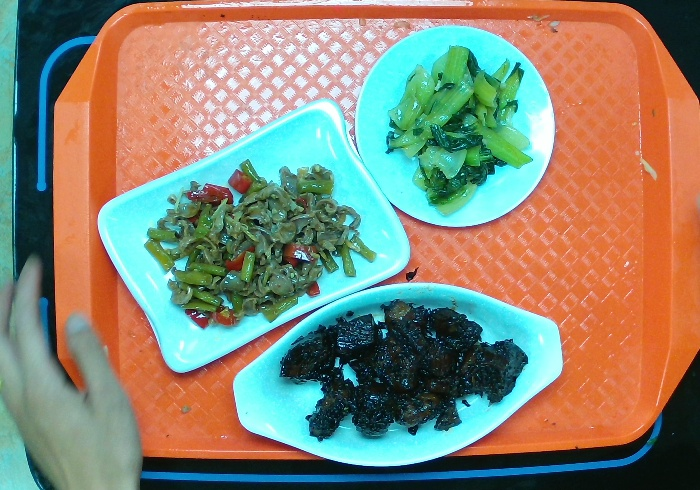RJxy-Si_Fang_Ao_Bian_Wan: (94, 96, 412, 375)
RJxy-Xiao_Yuan_Die: (352, 23, 556, 229)
RJxy-Yu_Pan: (231, 279, 564, 467)
